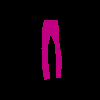pantaloni: (41, 19, 62, 80)
